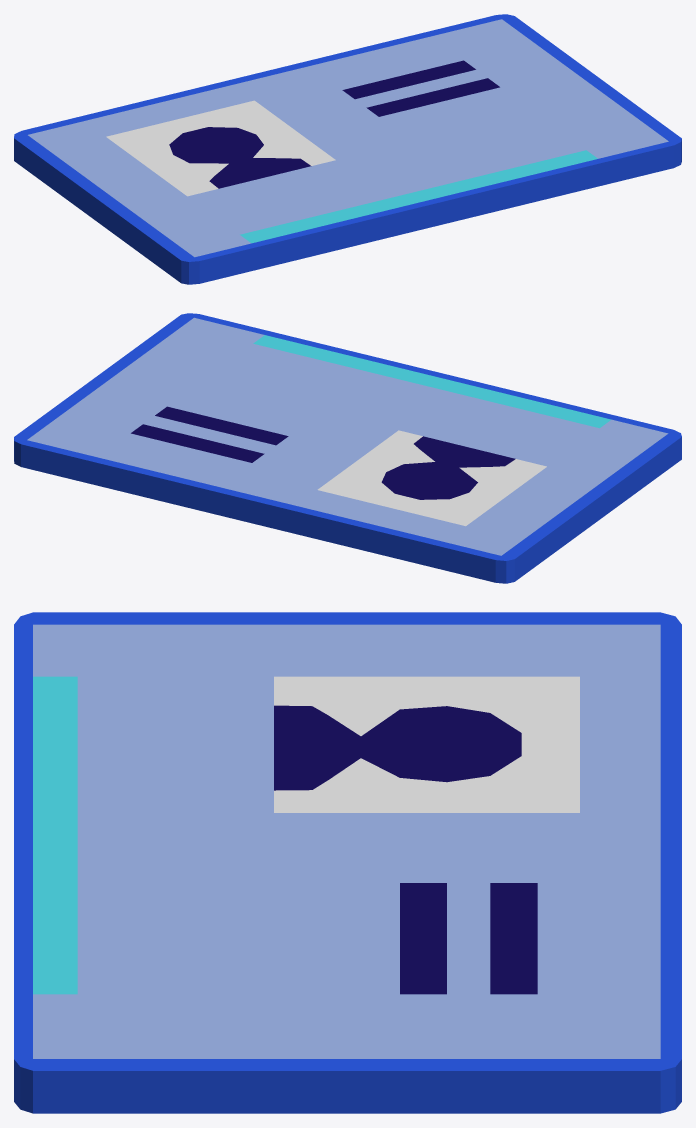
File: IDcard.fbx
3 views of the same model, one above another, from view 1: azimuth 30°, elevation 25°; view 2: azimuth 150°, elevation 25°; view 3: azimuth 270°, elevation 25° (orthographic). The views are drawn at different scales.
Visible parts, largest first — view 1: Cube; view 2: Cube; view 3: Cube.
Part boxes in pixels (x1,y1,x2,y2): Cube: [14, 14, 681, 284]; Cube: [14, 313, 681, 583]; Cube: [14, 612, 681, 1113].
Size of the model in its own units: 632 by 27.47 by 389.
